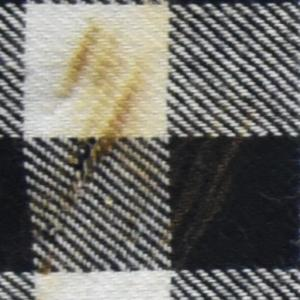Oil Stain: (29, 1, 260, 300)
